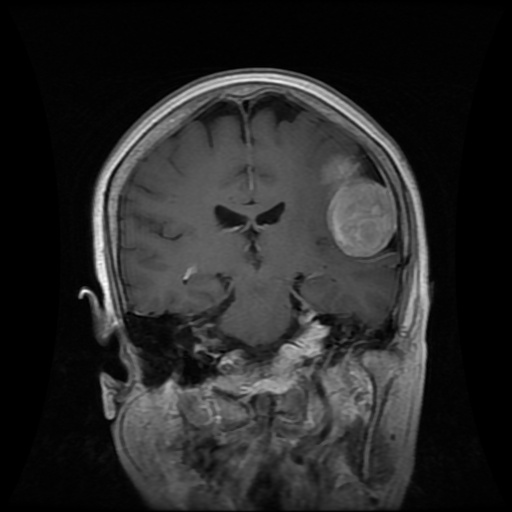meningioma: (318, 151, 396, 257)
